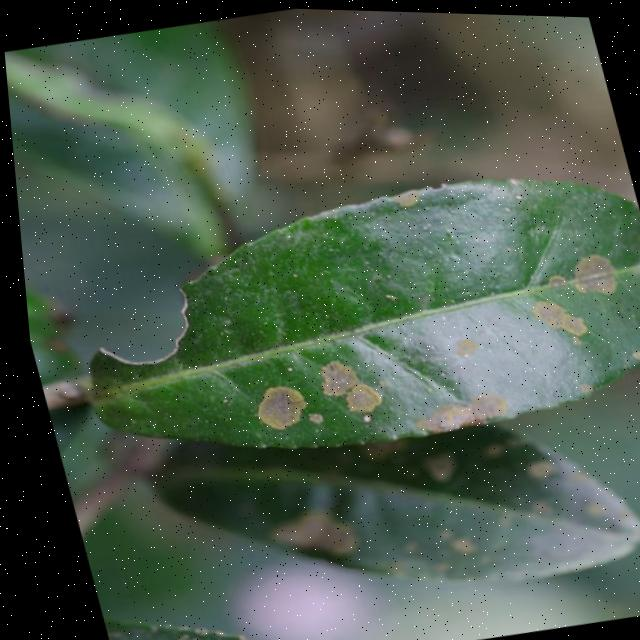Tea algae leaf spot: (185, 217, 640, 480)
